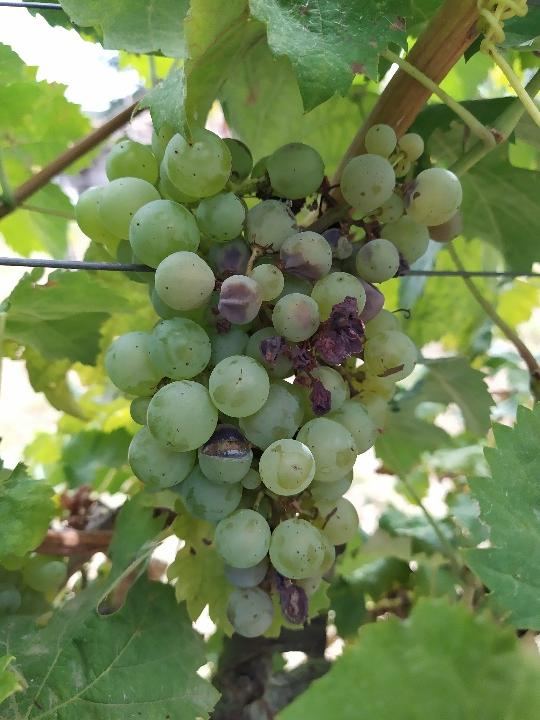grape: (74, 122, 467, 640)
